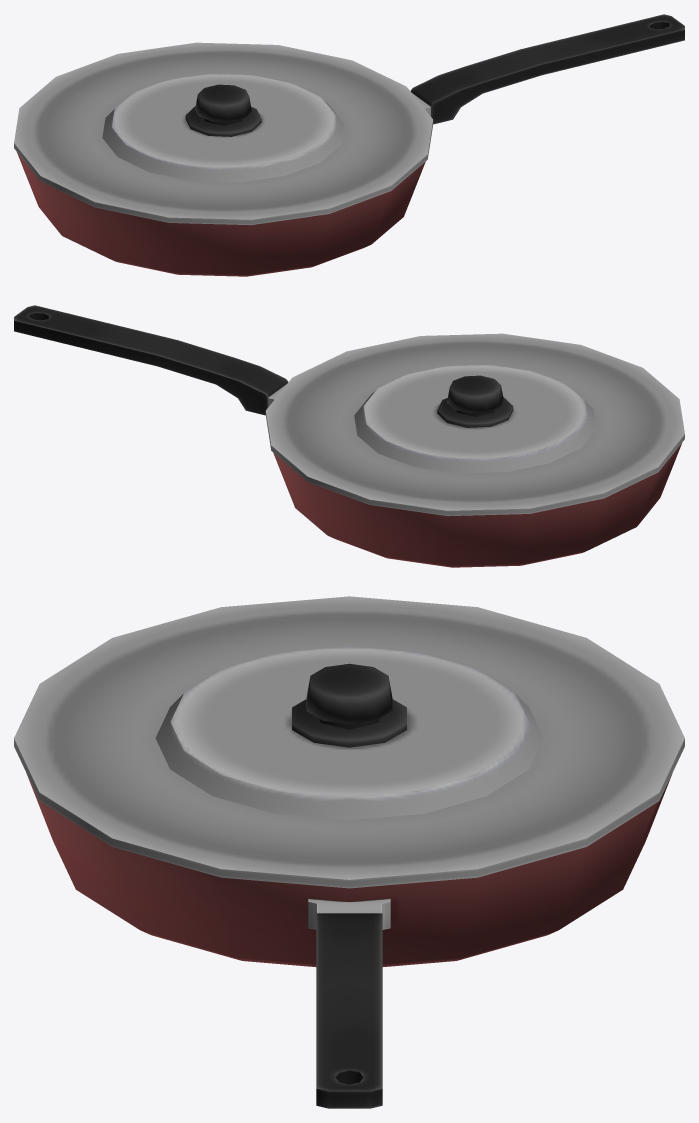
Rendered from KR_Skillet_01_01.fbx.
3 views of the same model, one above another, from view 1: azimuth 30°, elevation 25°; view 2: azimuth 150°, elevation 25°; view 3: azimuth 270°, elevation 25° (orthographic). The views are drawn at different scales.
Parts seen in each view (by area): view 1: lid01, pan01; view 2: lid01, pan01; view 3: lid01, pan01.
Boxes of the visible parts, x1,y1,x2,y2 form: lid01: [14, 42, 433, 225]; pan01: [17, 14, 684, 276]; lid01: [265, 333, 684, 516]; pan01: [14, 305, 681, 567]; lid01: [14, 596, 684, 888]; pan01: [27, 775, 671, 1108].
Size of the model in its own units: 45.38 by 7.31 by 26.06.
